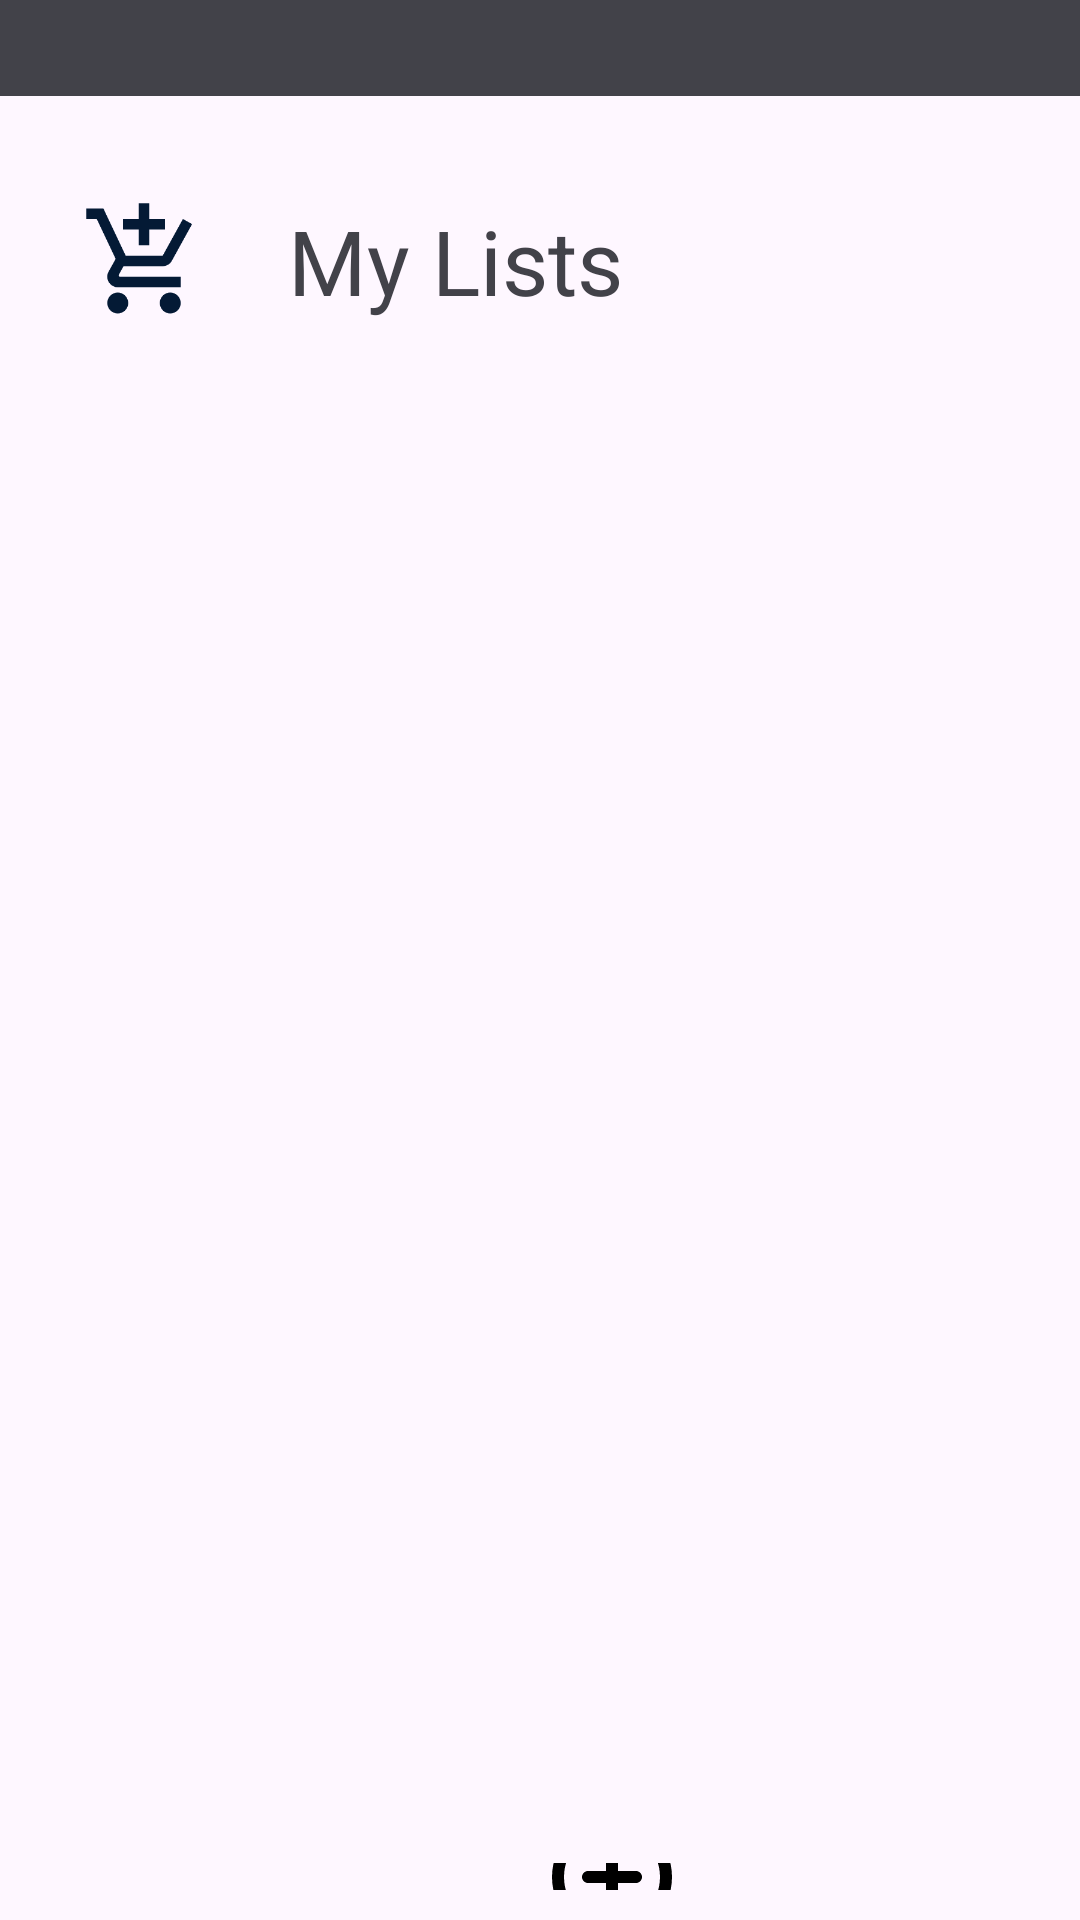

Screen size 1080px x 1920px. Icon name, then its center in pixels as (x,y):
add circle: (612,1876)
